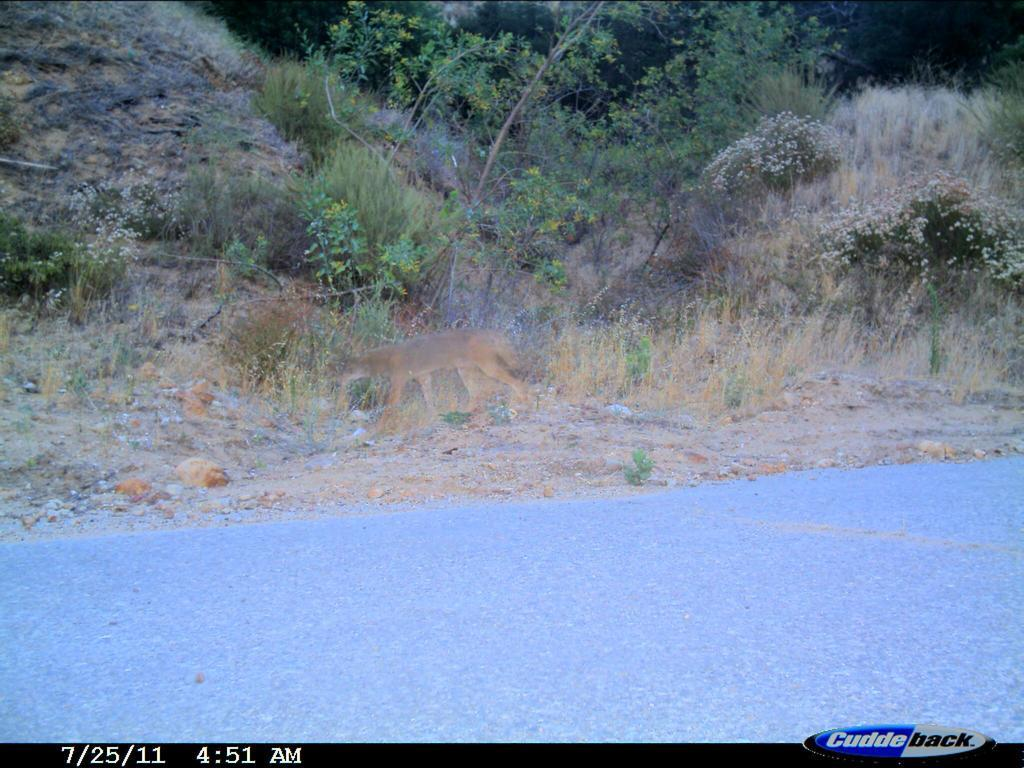coyote: (336, 321, 534, 438)
